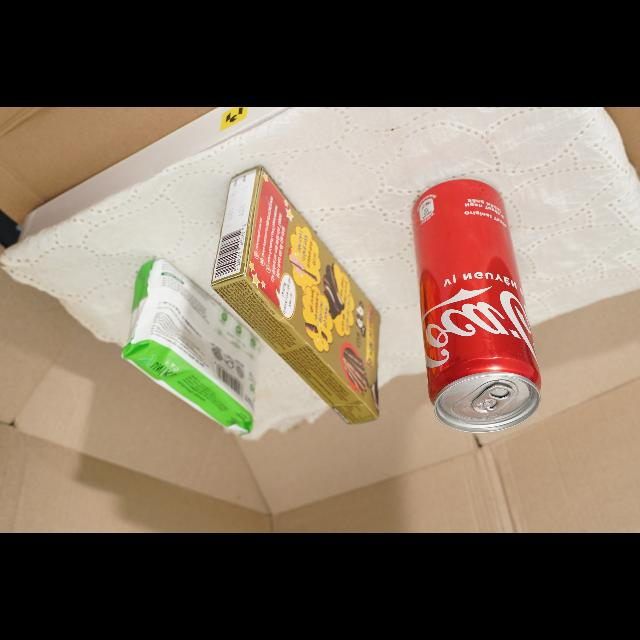banh_toppo_socola: (212, 167, 380, 424)
coca_cola: (411, 179, 541, 433)
khan_giay: (123, 259, 260, 436)
